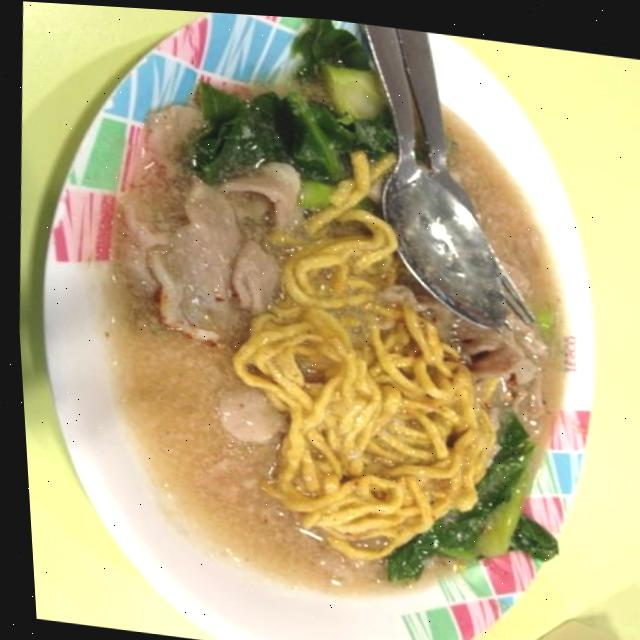面条主食: (37, 7, 622, 640)
